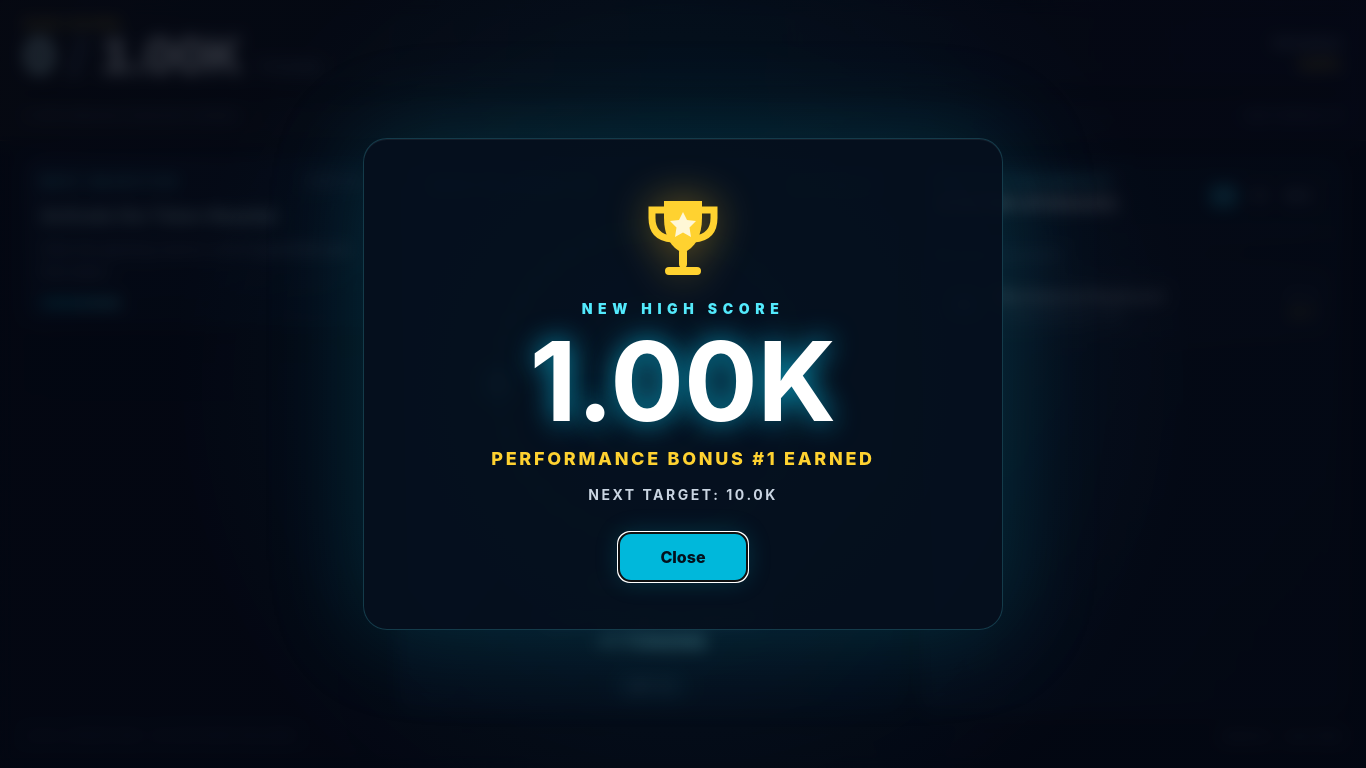
it: Tokenmaxxer dashboard › forces and dismisses the High Score celebration through the preview query
The width and height of the screenshot is (1366, 768).
Expected: the dialog "NEW HIGH SCORE" is shown, [582,300,784,317]
Expected: the dialog "NEW HIGH SCORE" shows "PERFORMANCE BONUS #1 EARNED", [491,448,875,469]
Click the element that starts with "NEW HIGH SCORE".
click(82, 384)  # box [0,0,1365,767]
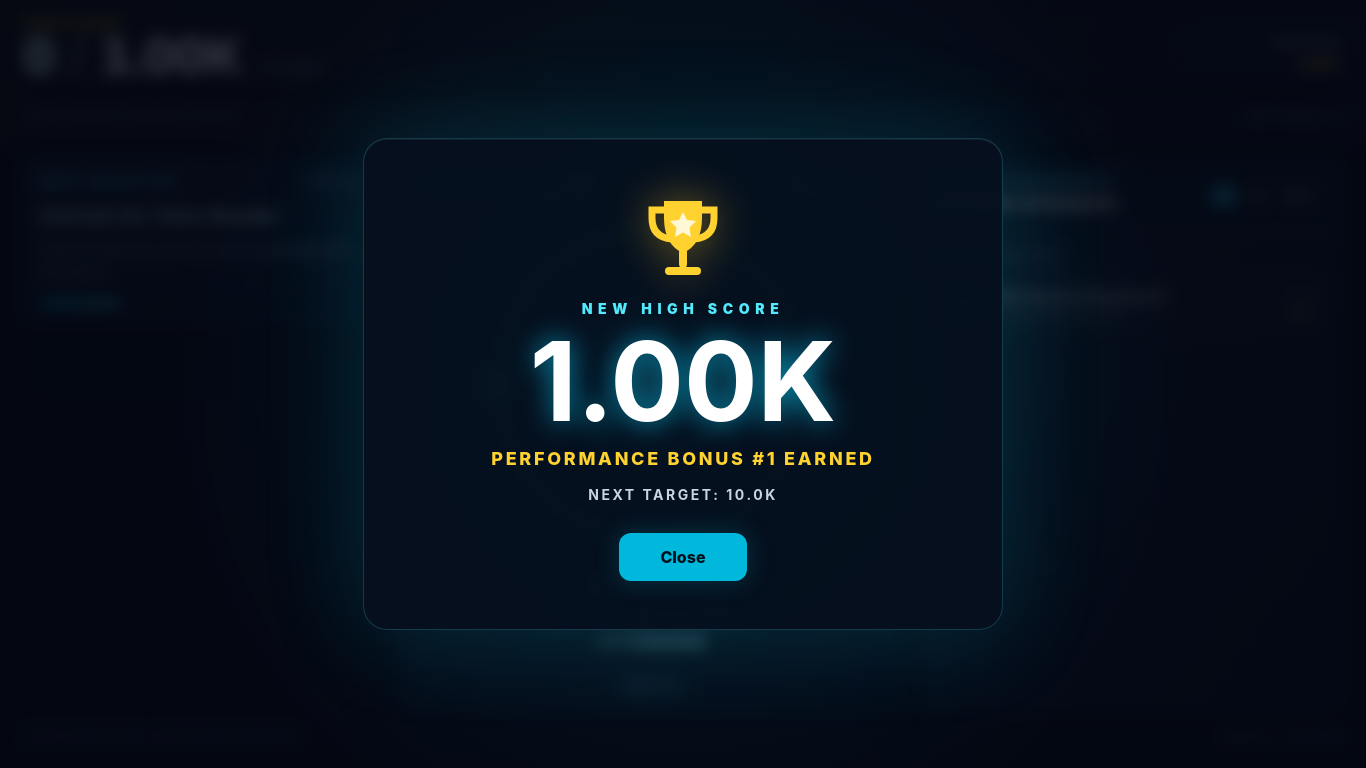
Expected: the dialog "NEW HIGH SCORE" is shown, [363,138,1003,630]
Click the button "Close".
click(683, 557)  # box [619,533,747,581]
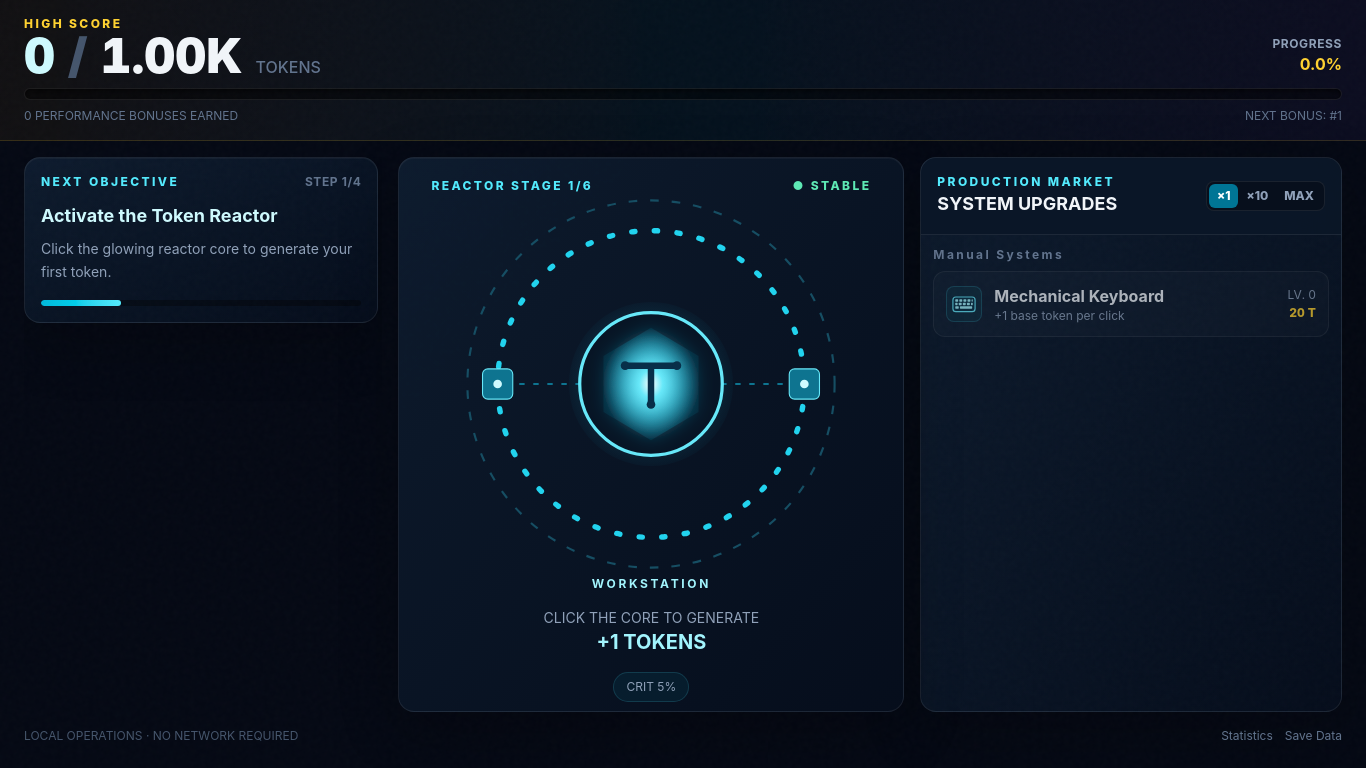
Result: the text "NEW HIGH SCORE" is gone
